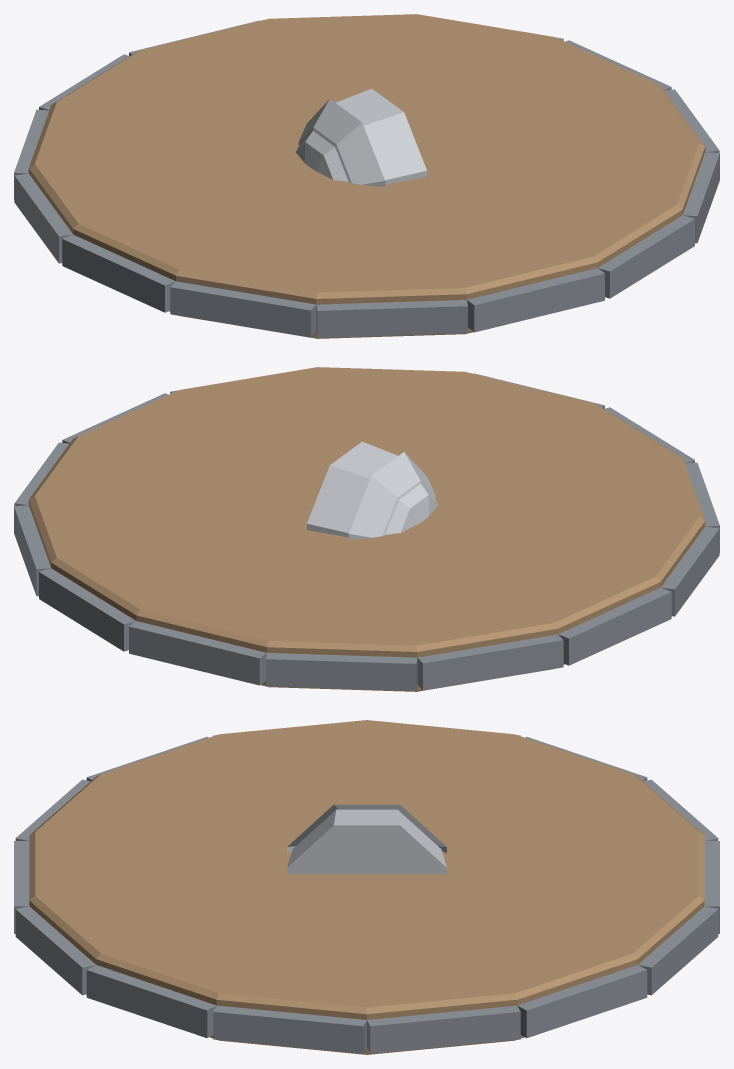
File: roundshield.glb
3 renders of one model, top to bottom at view 1: azimuth 30°, elevation 25°; view 2: azimuth 150°, elevation 25°; view 3: azimuth 270°, elevation 25°, orthographic. The views are drawn at different scales.
Parts seen in each view (by area): view 1: roundshield; view 2: roundshield; view 3: roundshield.
Part boxes in pixels (x1=…): roundshield: x1=14, y1=14, x2=719, y2=338; roundshield: x1=14, y1=367, x2=719, y2=691; roundshield: x1=14, y1=720, x2=719, y2=1054.
Size of the model in its own units: 0.5841 by 0.1293 by 0.5707.
